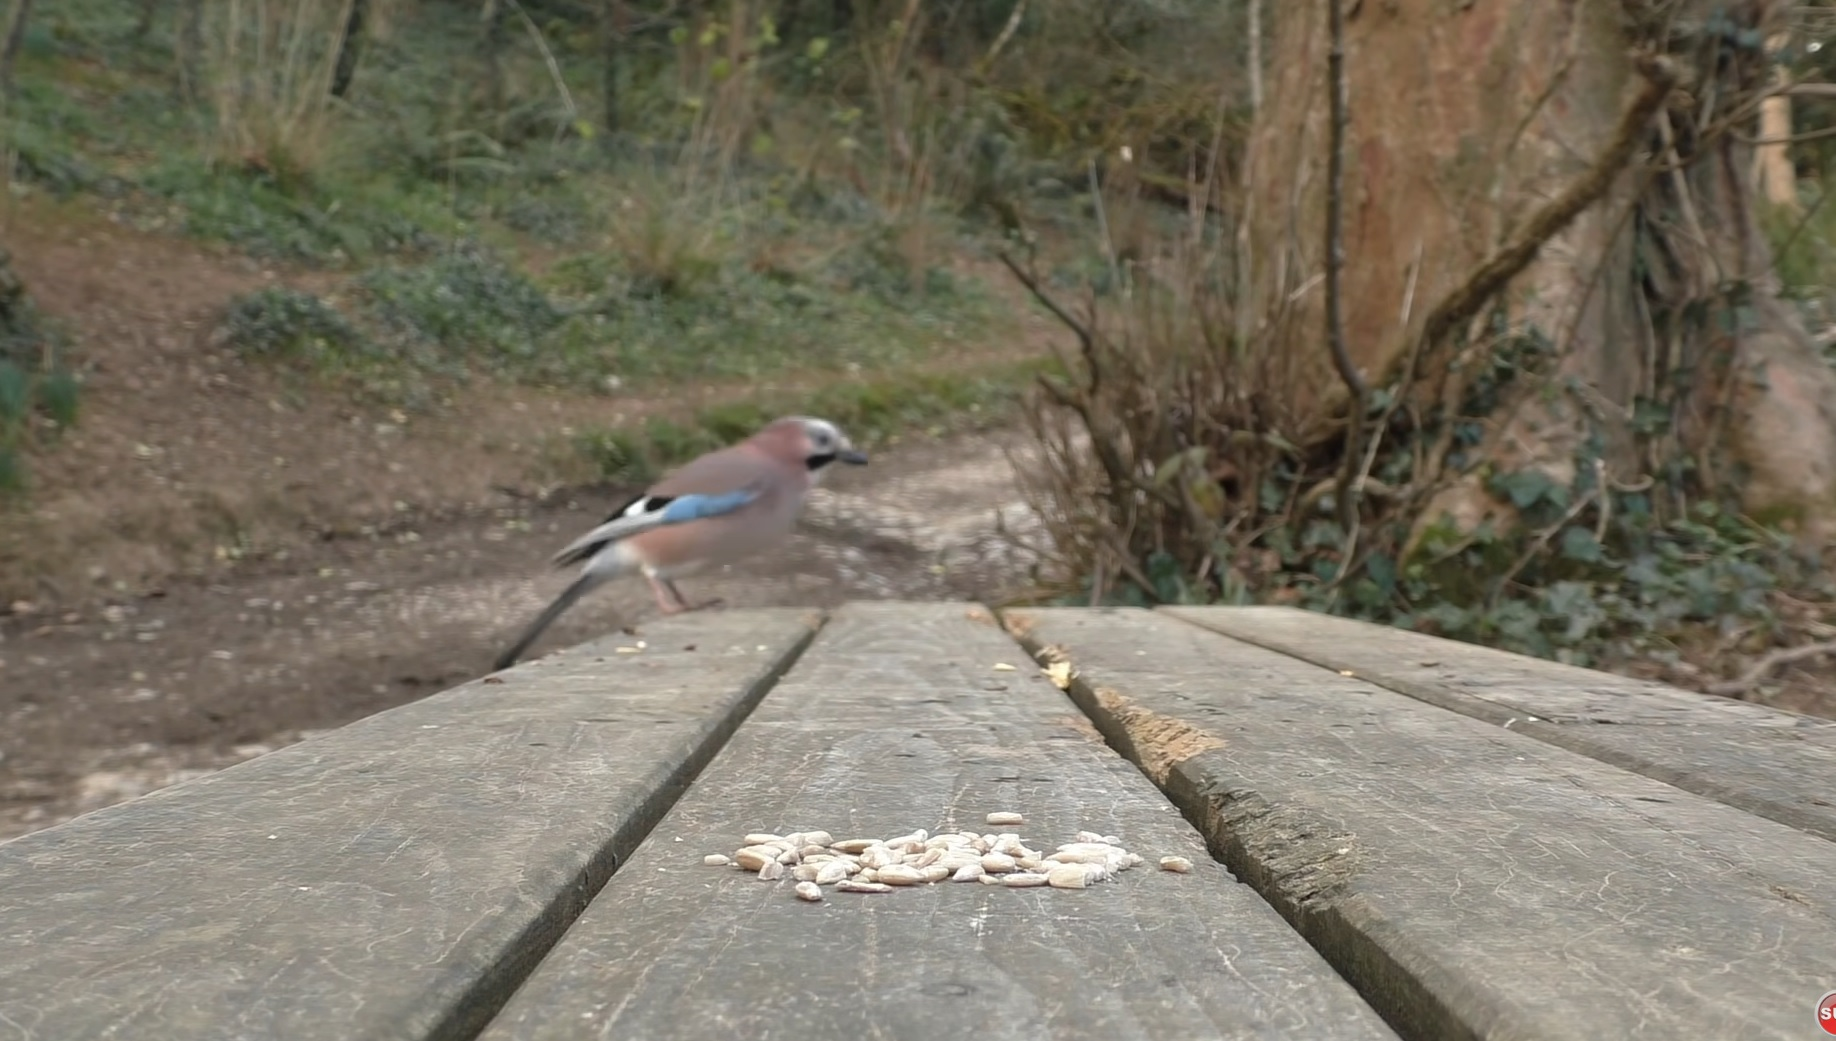seed: (681, 778, 1207, 925)
